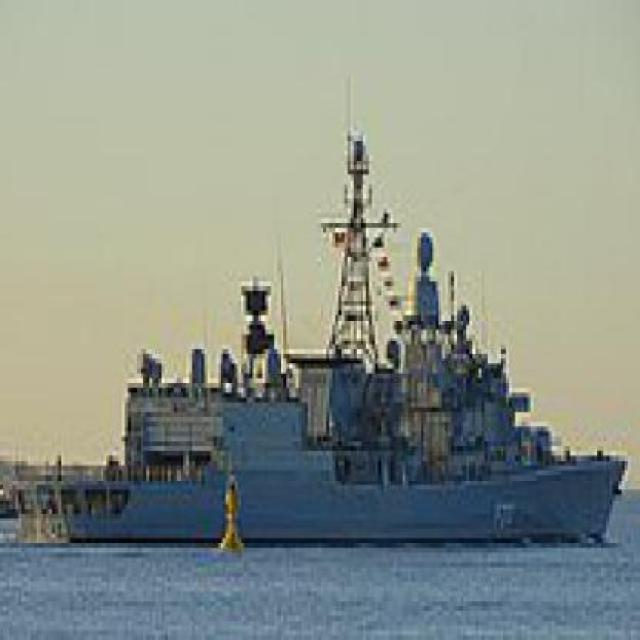warship2: (26, 107, 632, 549)
